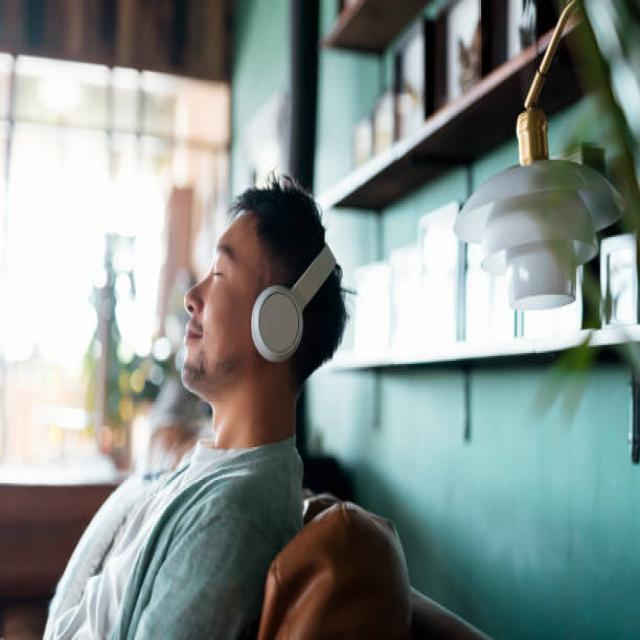Headphone: (249, 240, 338, 363)
